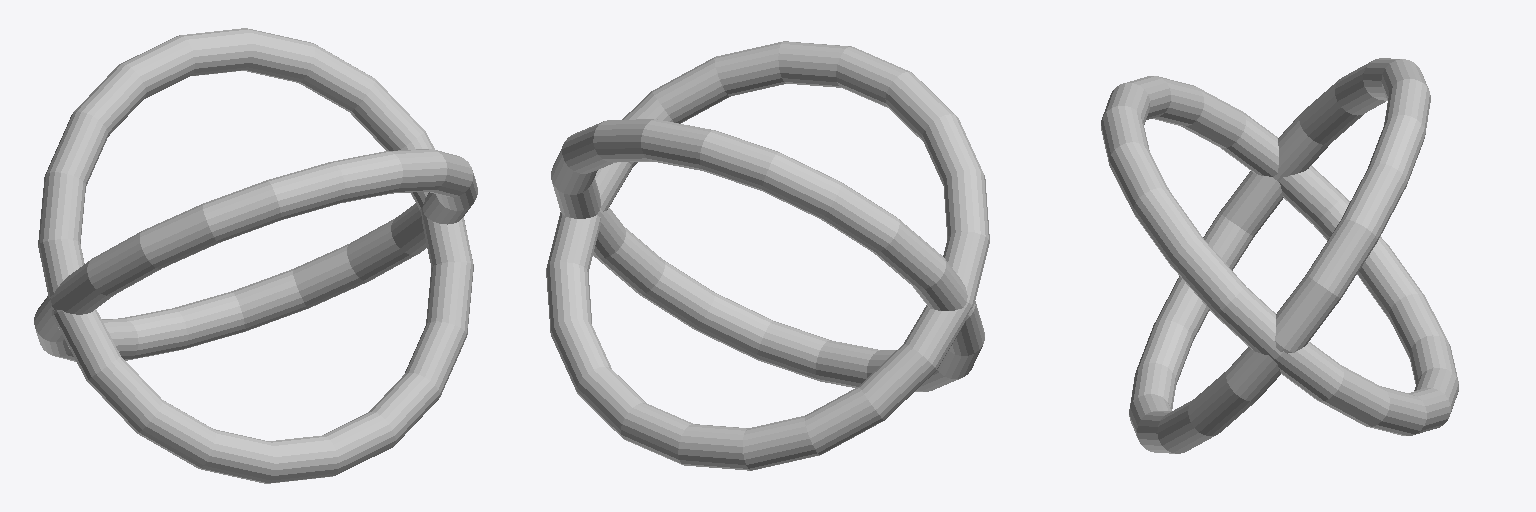
The model's file is RING.obj.
The picture shows the model from 3 angles: view 1: azimuth 30°, elevation 25°; view 2: azimuth 150°, elevation 25°; view 3: azimuth 270°, elevation 25°; orthographic projection.
Parts seen in each view (by area): view 1: pTorus2, pTorus1; view 2: pTorus1, pTorus2; view 3: pTorus1, pTorus2.
Part boxes in pixels (left/top/right/bottom): pTorus2: left=38, top=28, right=473, bottom=483; pTorus1: left=34, top=149, right=477, bottom=361; pTorus1: left=546, top=41, right=989, bottom=470; pTorus2: left=551, top=119, right=984, bottom=391; pTorus1: left=1101, top=76, right=1458, bottom=435; pTorus2: left=1129, top=58, right=1430, bottom=453.
Bounding box in the file's own units: 2.2 × 1.79 × 1.67.